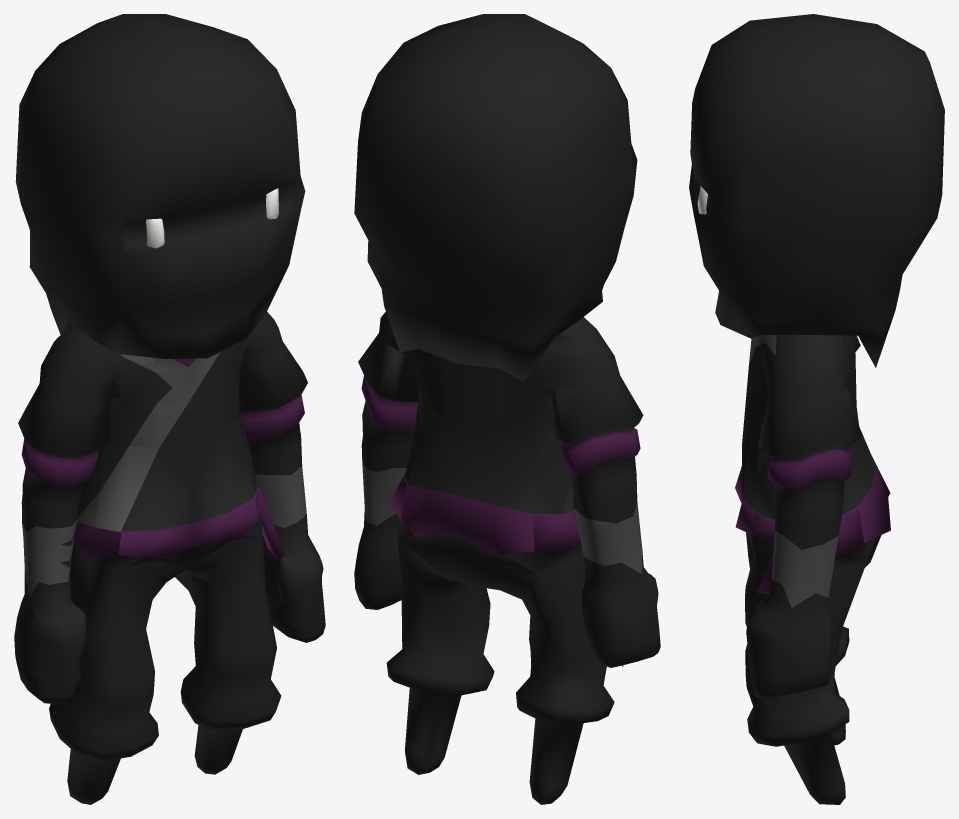
File: tengu.glb
3 views of the same model, side by side, from view 1: azimuth 30°, elevation 25°; view 2: azimuth 150°, elevation 25°; view 3: azimuth 270°, elevation 25° (orthographic). The views are drawn at different scales.
Visible parts, largest first — view 1: Body, ArmR, LegR, ArmL, LegL; view 2: Body, ArmR, LegR, LegL, ArmL; view 3: Body, ArmL, LegL, LegR.
Boxes of the visible parts, left/top/right/bottom form: Body: left=15, top=14, right=305, bottom=591; ArmR: left=14, top=323, right=189, bottom=704; LegR: left=49, top=491, right=166, bottom=804; ArmL: left=190, top=312, right=325, bottom=642; LegL: left=175, top=485, right=285, bottom=774; Body: left=354, top=14, right=637, bottom=590; ArmR: left=502, top=317, right=660, bottom=667; LegR: left=499, top=484, right=614, bottom=804; LegL: left=386, top=475, right=494, bottom=774; ArmL: left=354, top=312, right=443, bottom=609; Body: left=689, top=14, right=944, bottom=565; ArmL: left=746, top=335, right=861, bottom=698; LegL: left=745, top=508, right=875, bottom=804; LegR: left=745, top=557, right=849, bottom=745.
Size of the model in its own units: 0.6939 by 1.7 by 0.527.
